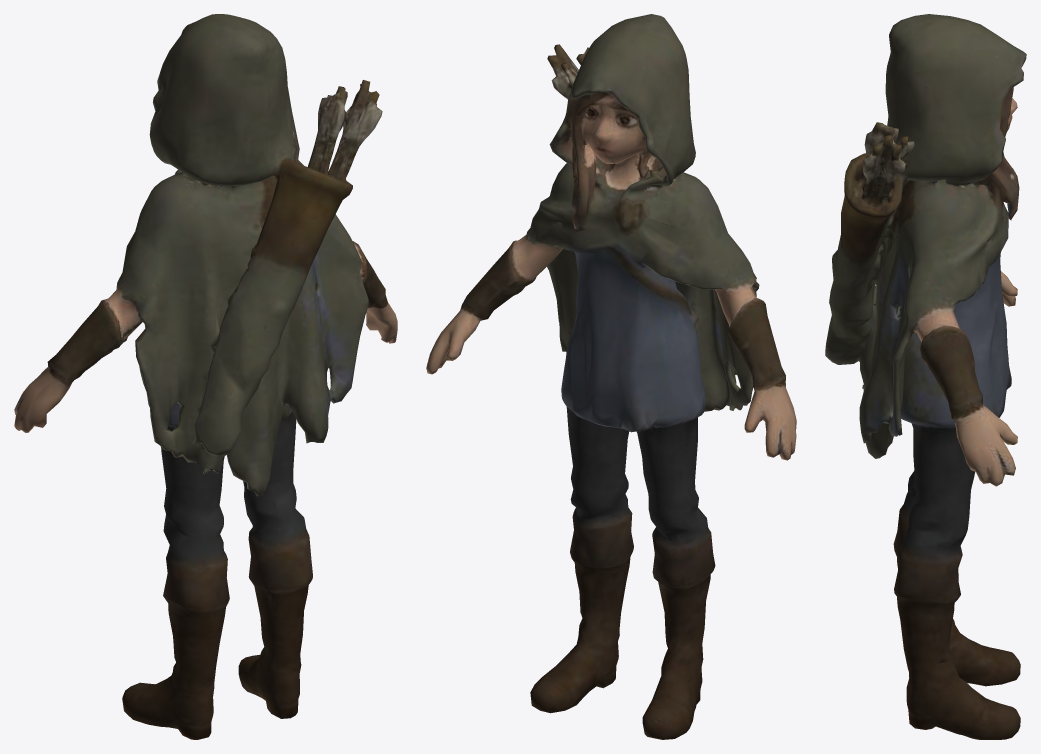
The model's file is Archere_P1_propre.glb.
The picture shows the model from 3 angles, left to right: view 1: azimuth 30°, elevation 25°; view 2: azimuth 150°, elevation 25°; view 3: azimuth 270°, elevation 25°; orthographic projection. The views are drawn at different scales.
Visible parts, largest first — view 1: Archere_P1; view 2: Archere_P1; view 3: Archere_P1.
Boxes of the visible parts, bbox=[...] form: Archere_P1: bbox=[14, 14, 397, 739]; Archere_P1: bbox=[426, 14, 796, 739]; Archere_P1: bbox=[825, 14, 1026, 739].
Bounding box in the file's own units: 3 × 5.33 × 1.42.
Materials: 1 (1 with a texture image).
